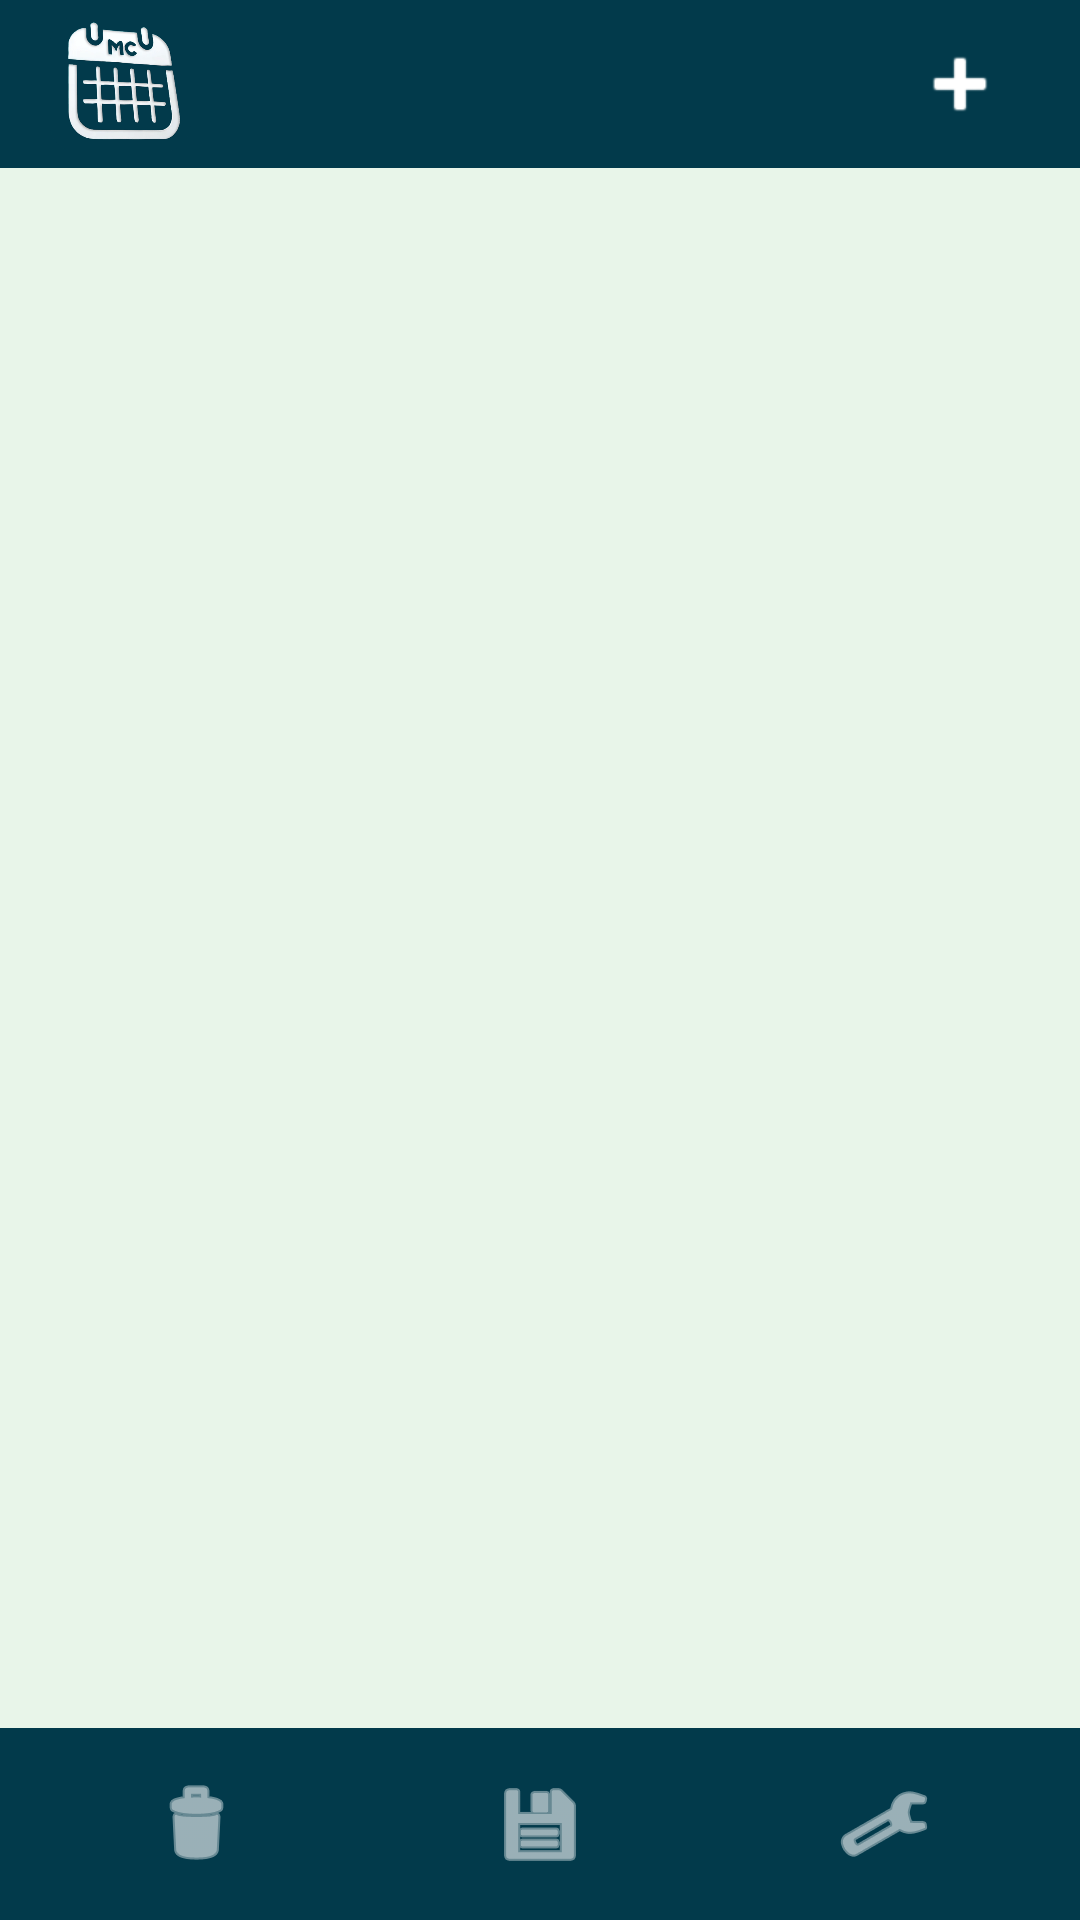

Icon bounding boxes for this 1080 × 1920 phone screenshot, format bbox=[x1, y1, x2, y2]:
add: bbox=[933, 57, 987, 111]
delete: bbox=[169, 1785, 224, 1860]
manage: bbox=[841, 1791, 927, 1857]
save: bbox=[504, 1788, 576, 1861]
